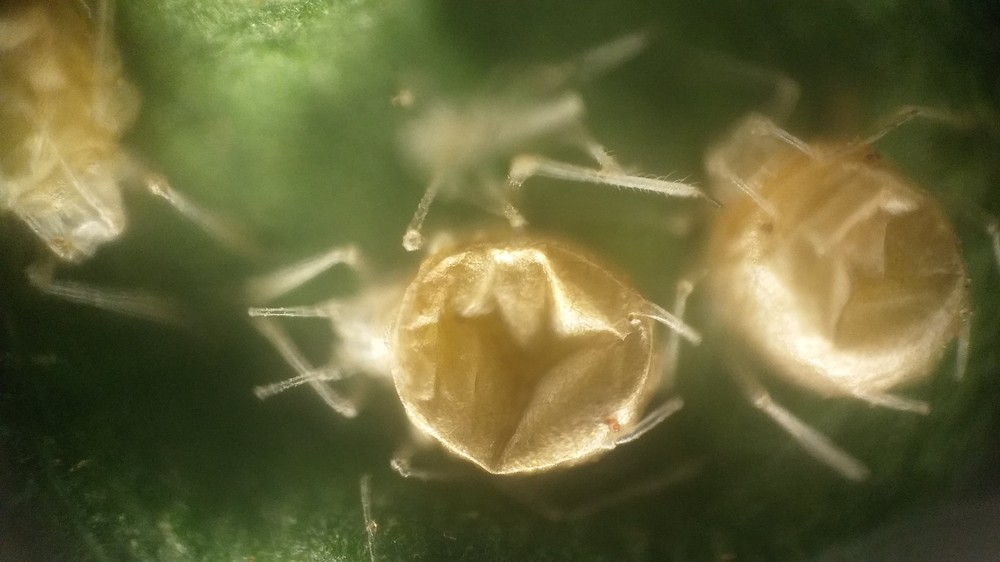Pulgon: (242, 150, 726, 514), (670, 73, 1000, 472), (1, 1, 270, 329)
